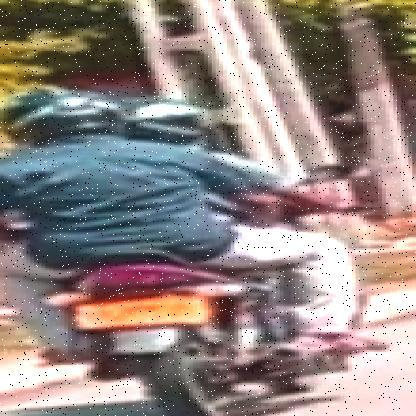motorcycle: (0, 248, 408, 415)
